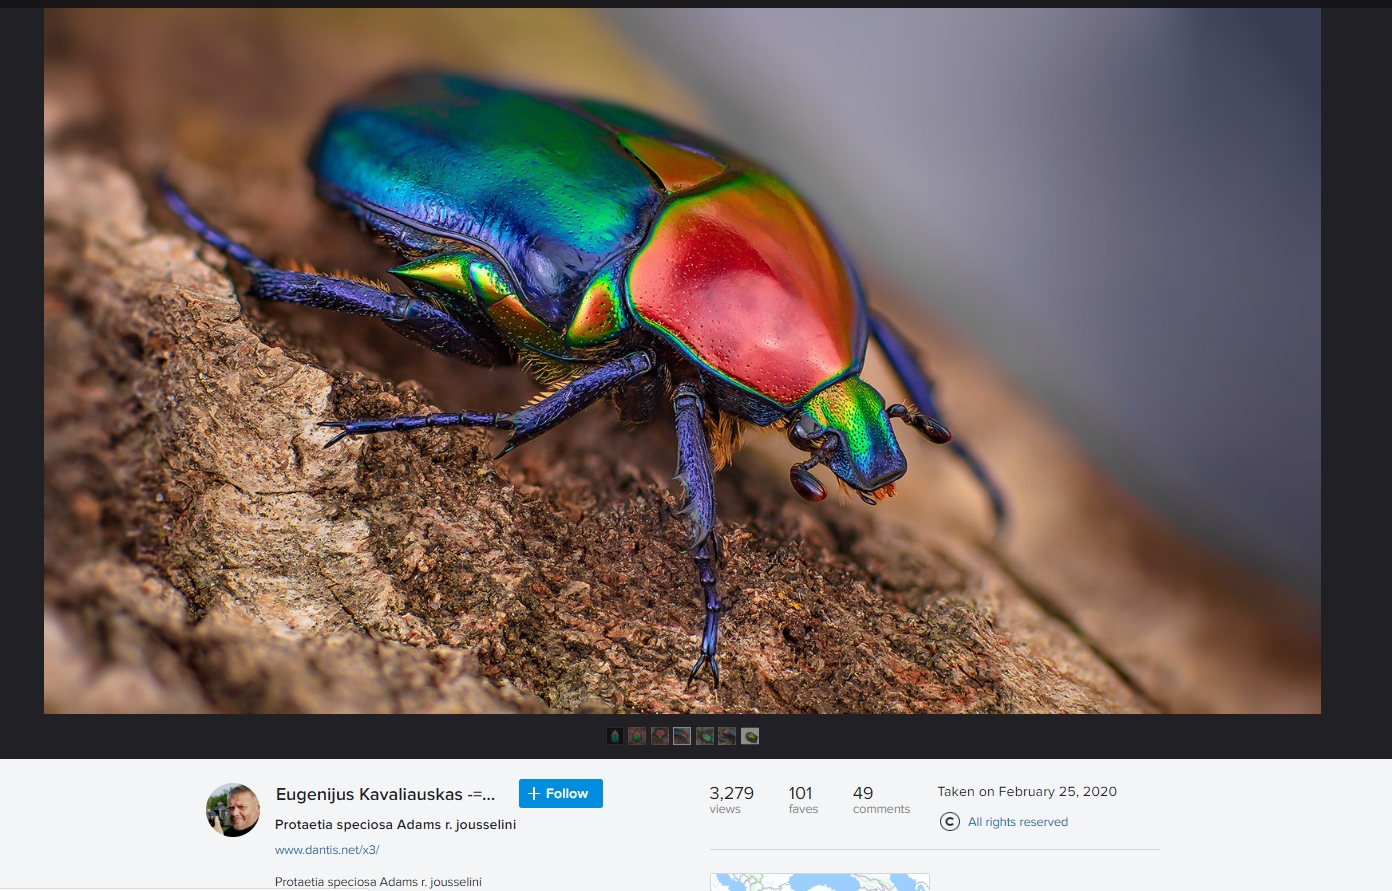Protaetia_speciosa_jousselini: (146, 53, 948, 700)
